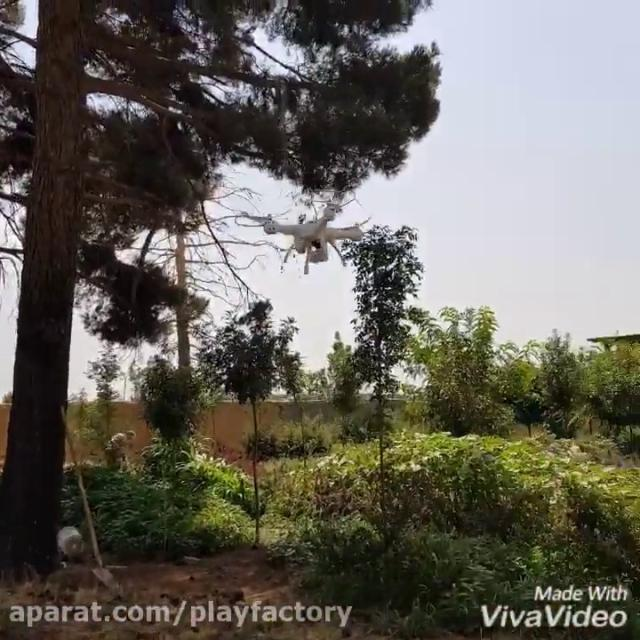drone: (230, 193, 372, 274)
